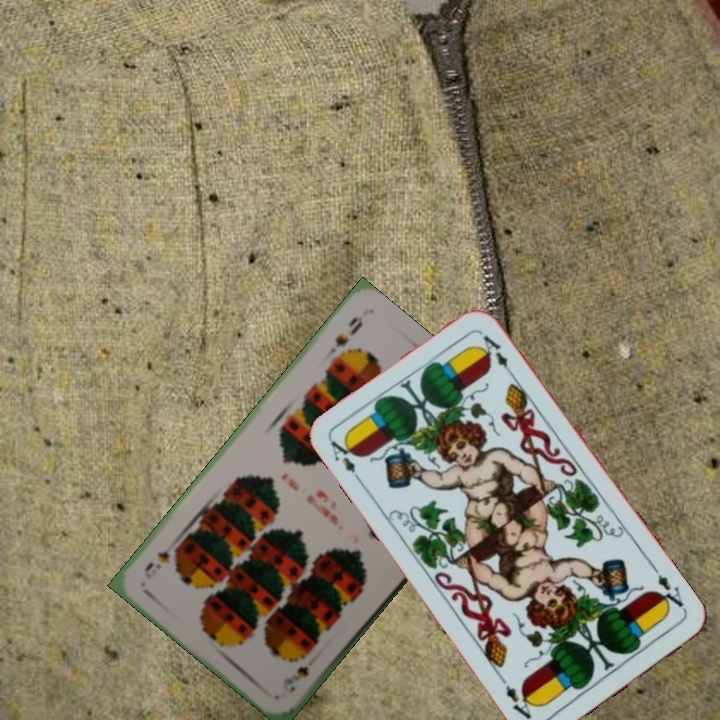EA: (326, 434, 366, 487), (651, 570, 689, 615)
S9: (330, 312, 366, 350), (278, 661, 312, 695)
